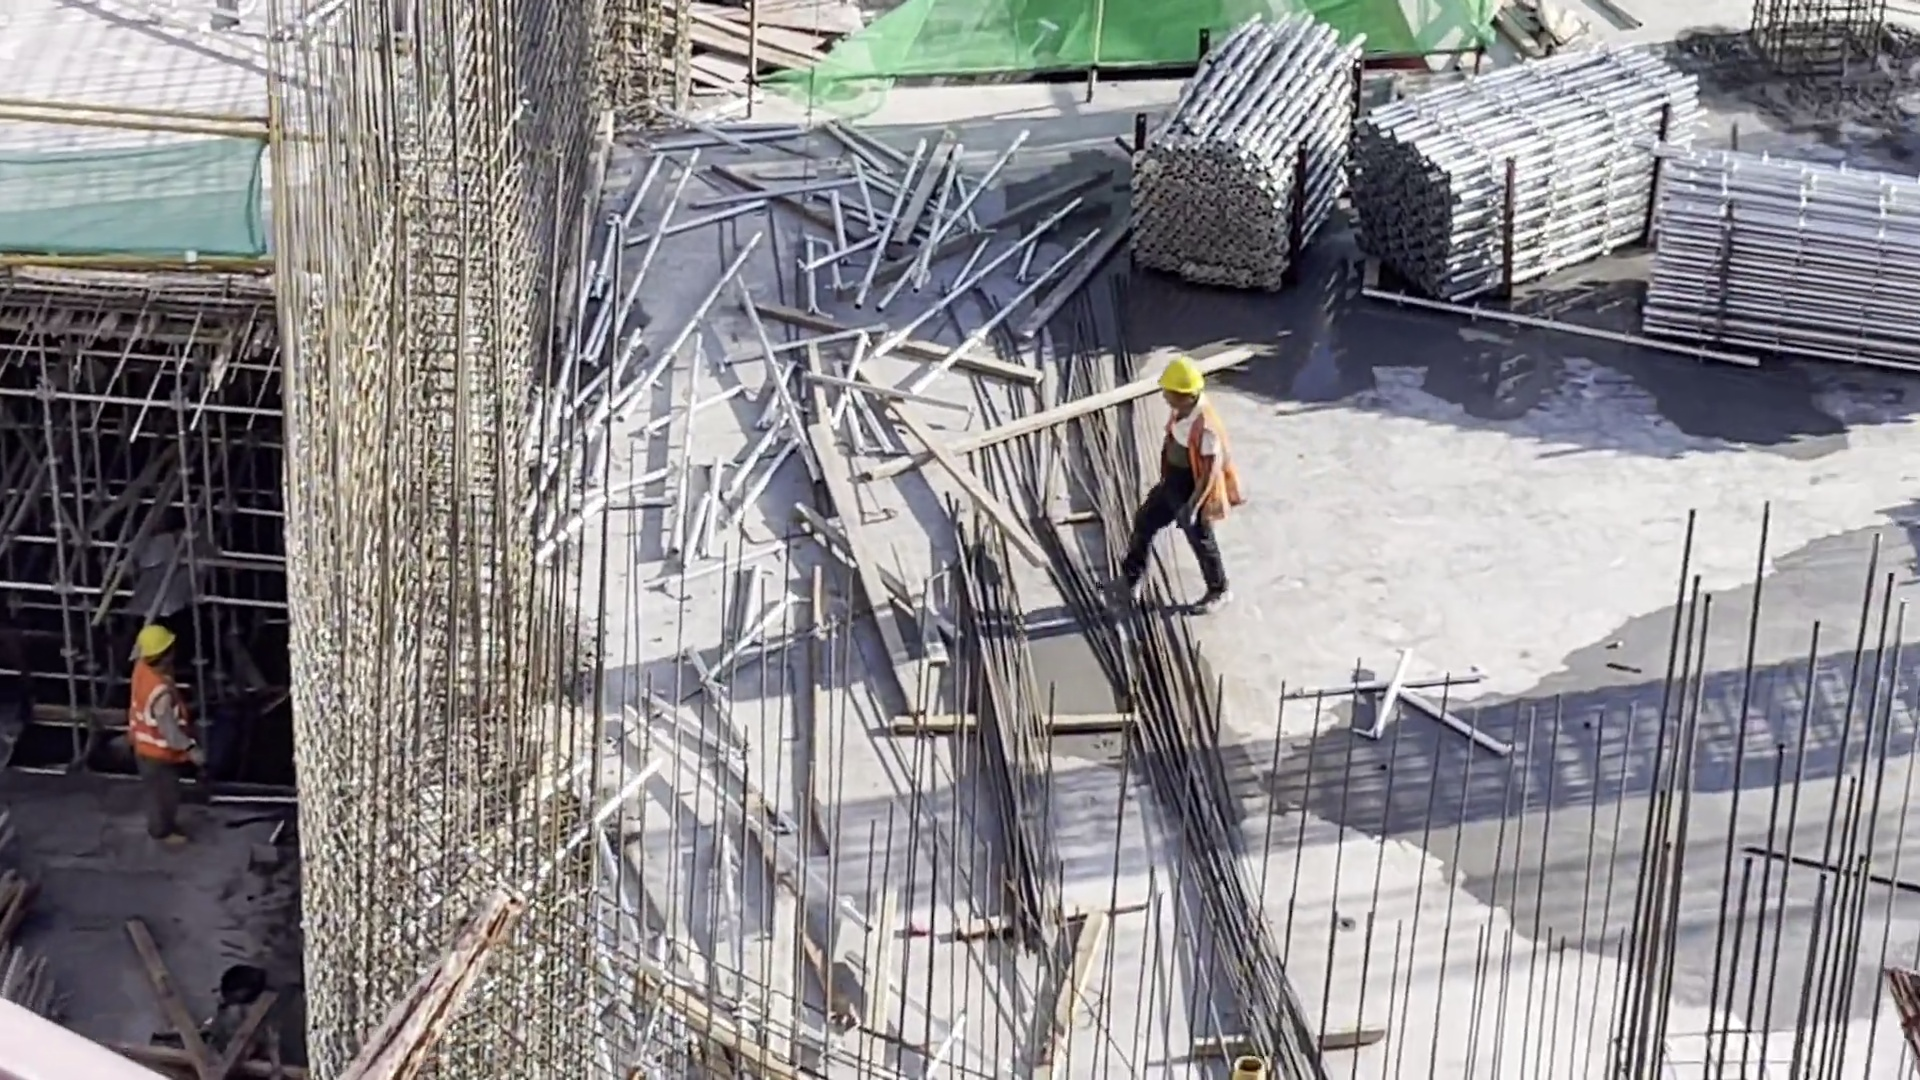helmet: (126, 624, 179, 658), (1159, 361, 1207, 394)
person: (1107, 358, 1232, 618), (121, 614, 208, 863)
rebar: (1068, 492, 1311, 1080), (946, 563, 1072, 905)
scaffold: (1393, 71, 1659, 293), (1648, 165, 1920, 344), (1132, 64, 1339, 293)
vest: (126, 669, 187, 768), (1162, 414, 1220, 513)
